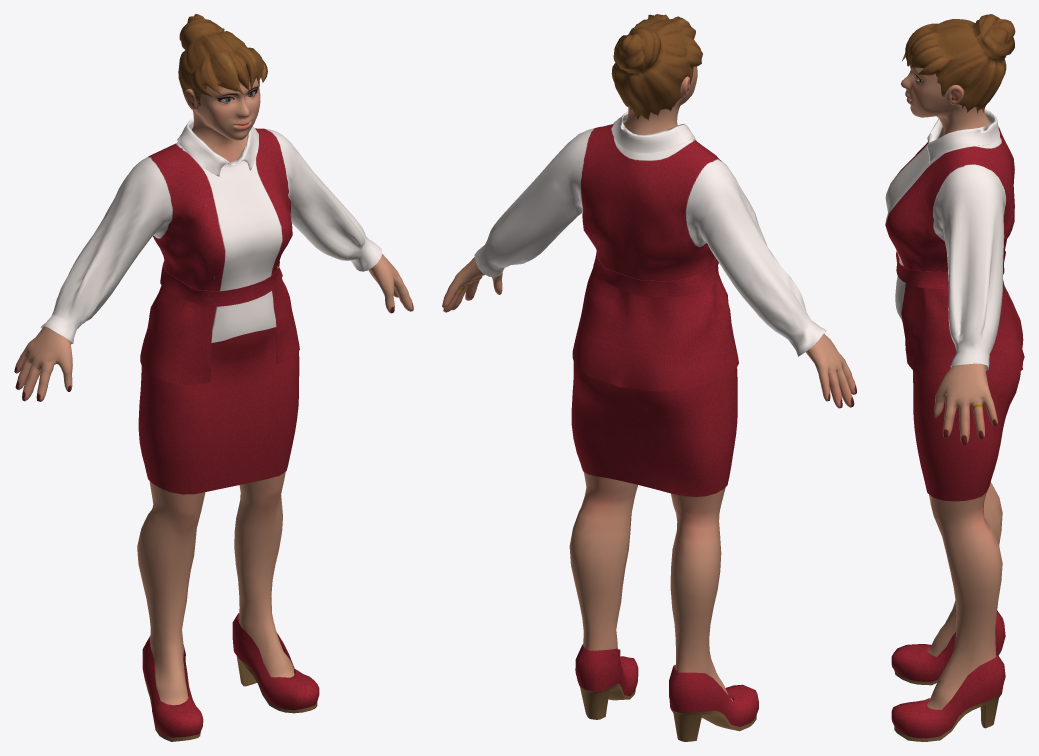
The model's file is Municipality worker.fbx.
3 views of the same model, side by side, from view 1: azimuth 30°, elevation 25°; view 2: azimuth 150°, elevation 25°; view 3: azimuth 270°, elevation 25° (orthographic). The views are drawn at different scales.
Parts seen in each view (by area): view 1: top, body.001, skirt, shoes, muni hair, belt; view 2: top, body.001, skirt, shoes, muni hair, belt; view 3: top, body.001, skirt, muni hair, shoes, belt.
Boxes of the visible parts, x1,y1,x2,y2 form: top: (40, 118, 382, 385); body.001: (14, 73, 413, 705); skirt: (138, 327, 299, 494); shoes: (142, 613, 319, 741); muni hair: (178, 14, 267, 109); belt: (160, 260, 282, 306); top: (474, 111, 826, 391); body.001: (442, 66, 856, 700); skirt: (571, 361, 737, 496); shoes: (575, 644, 758, 741); muni hair: (611, 14, 702, 118); belt: (593, 252, 718, 297); top: (885, 109, 1024, 383); body.001: (901, 34, 1002, 709); skirt: (902, 321, 1020, 501); muni hair: (902, 14, 1015, 111); shoes: (891, 611, 1005, 741); belt: (896, 251, 1005, 289).
Bounding box in the file's own units: 116 × 194 × 35.63.
3 materials, 3 textured.
